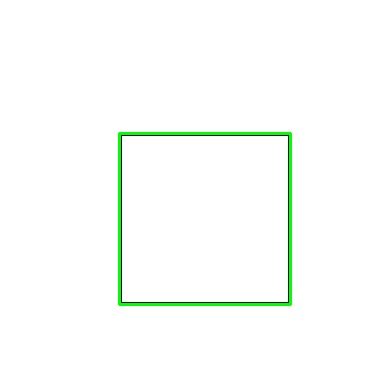line_segment: (118, 132, 291, 306)
